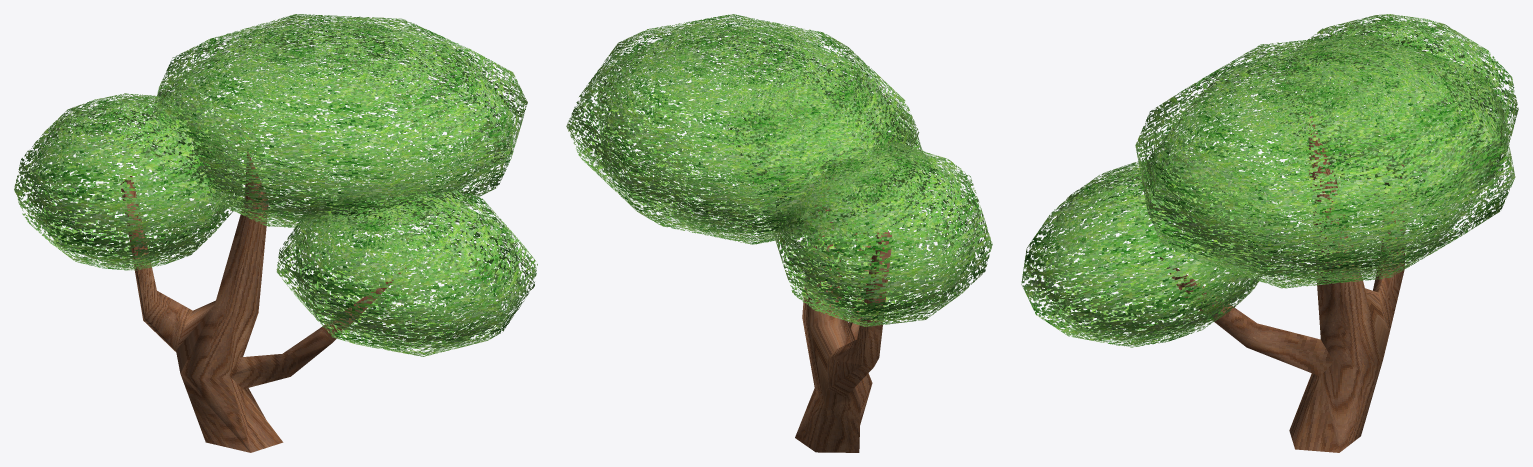
File: arboltablero.obj
3 views of the same model, side by side, from view 1: azimuth 30°, elevation 25°; view 2: azimuth 150°, elevation 25°; view 3: azimuth 270°, elevation 25° (orthographic). The views are drawn at different scales.
Visible parts, largest first — view 1: 3, 2; view 2: 3, 2; view 3: 3, 2.
Part boxes in pixels (x1,y1,x2,y2): 3: (14,14,537,356); 2: (120,151,406,452); 3: (566,14,992,326); 2: (795,153,892,452); 3: (1021,14,1518,347); 2: (1159,106,1405,452).
Bounding box in the file's own units: 6.39 × 5.3 × 5.75.
Materials: 2 (2 with a texture image).
